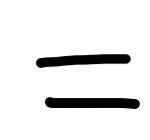eqv: (37, 54, 140, 109)
